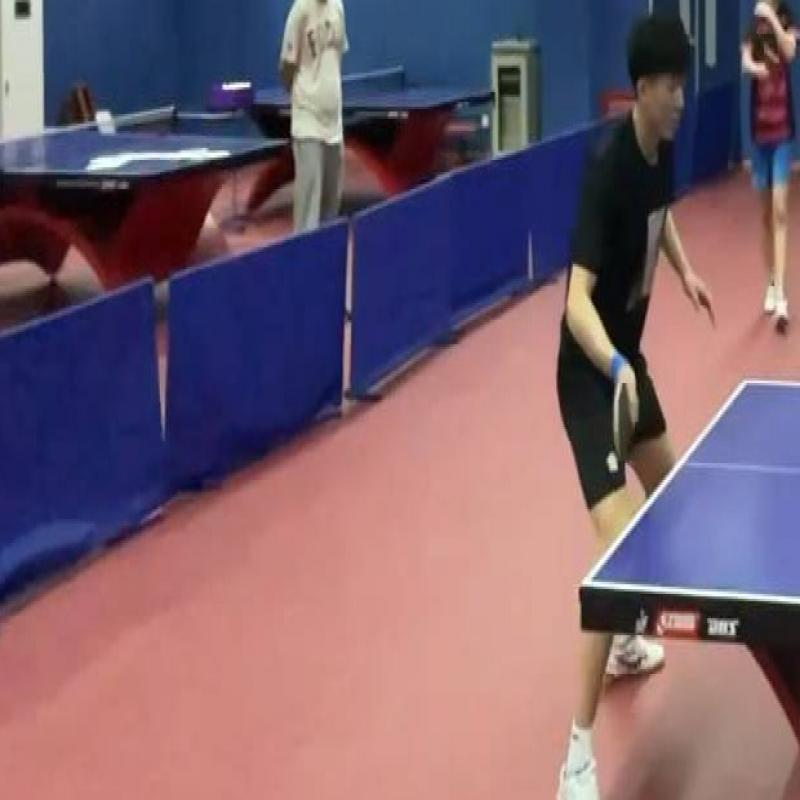bats: (602, 366, 642, 475)
